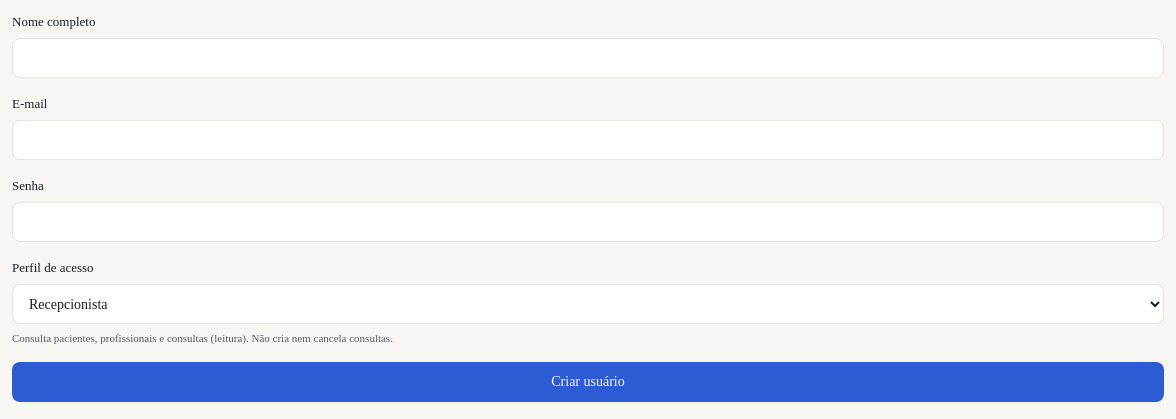
Test case: UserForm (integration) — create mode › shows role validation error when invalid role is submitted
Type "Bob Silva" into the field with test id "user-form-fullname" at (588,58), box top-left (12, 38), bottom-right (1164, 78)
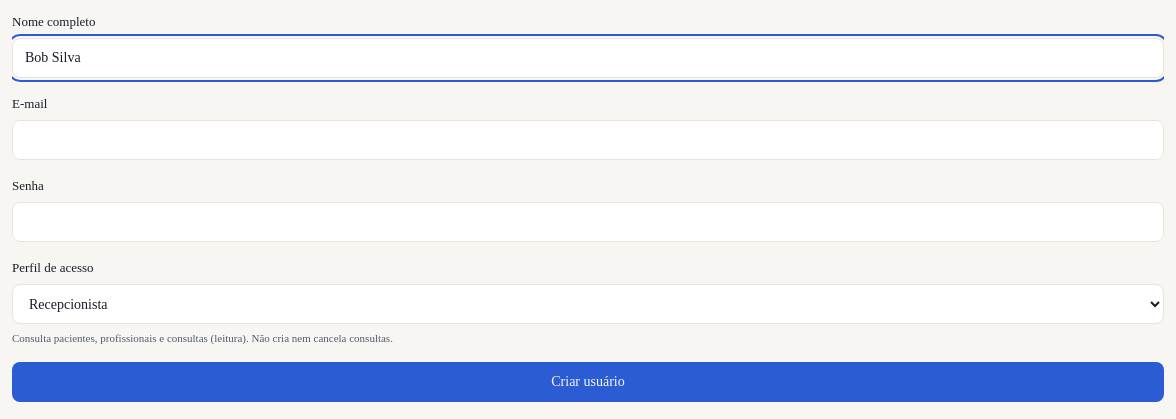
Type "bob@example.com" into the field with test id "user-form-email" at (588,140), box top-left (12, 120), bottom-right (1164, 160)
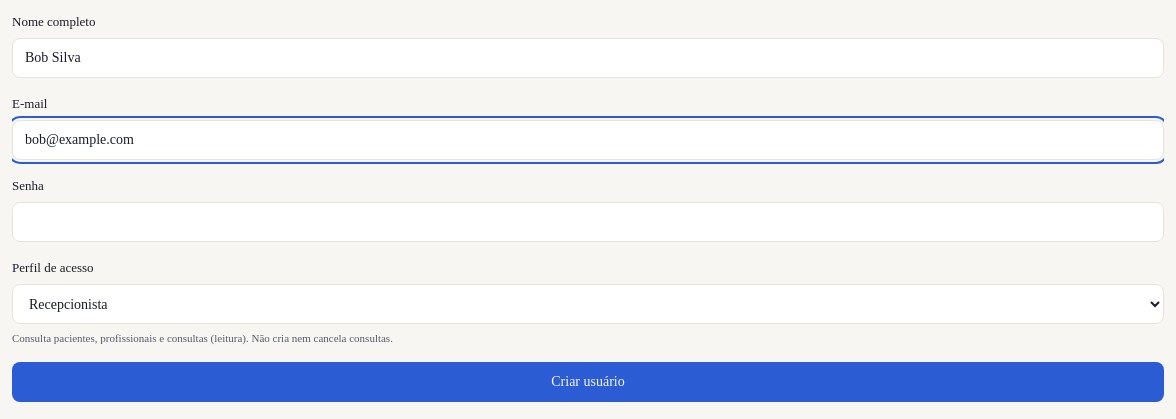
Type "password123" into the password field with test id "user-form-password" at (588,222), box top-left (12, 202), bottom-right (1164, 242)
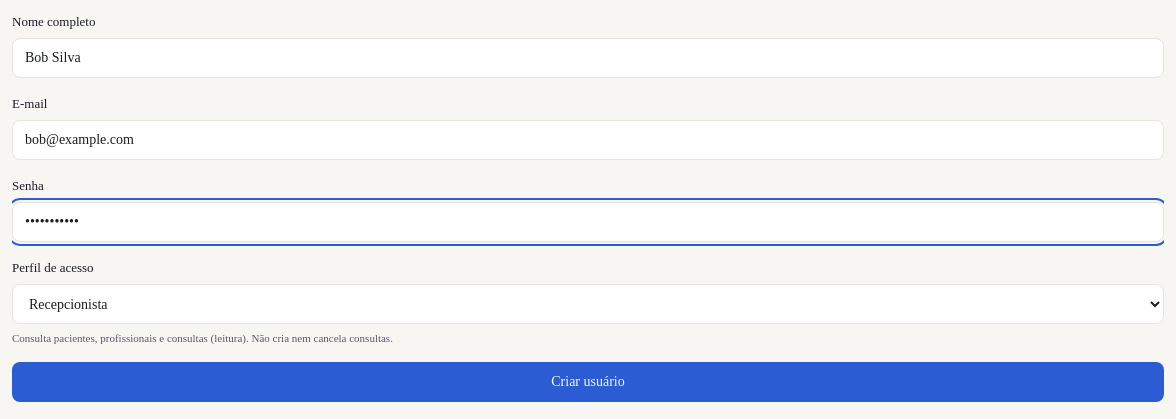
Select "" in the dropdown with test id "user-form-role" at (588,304), box top-left (12, 284), bottom-right (1164, 324)
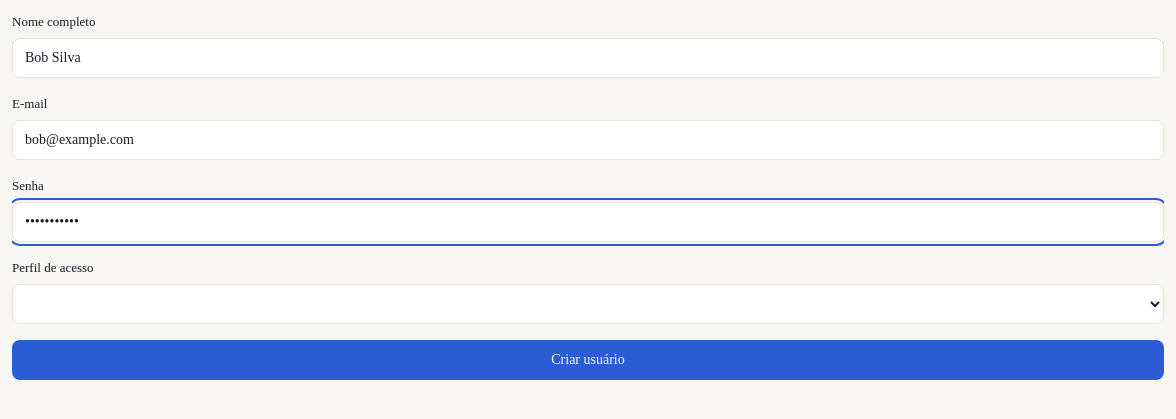
Click the button with test id "user-form-submit" at (588,360), box top-left (12, 340), bottom-right (1164, 380)
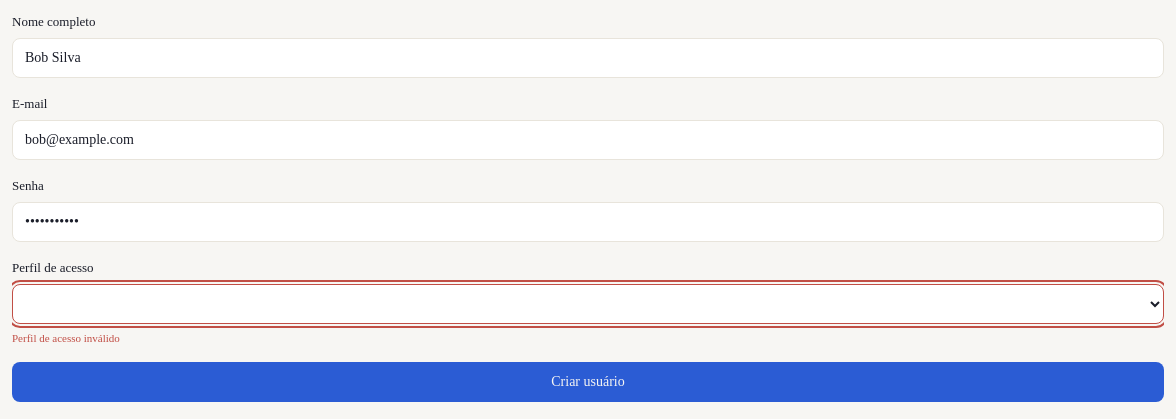
Expected: the text "Perfil de acesso inválido" is shown, top-left (12, 332), bottom-right (120, 344)
